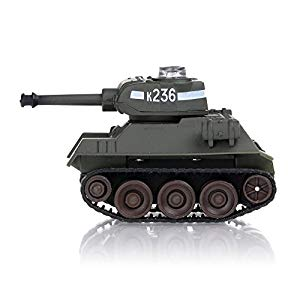Battle Tank: (20, 66, 278, 226)
